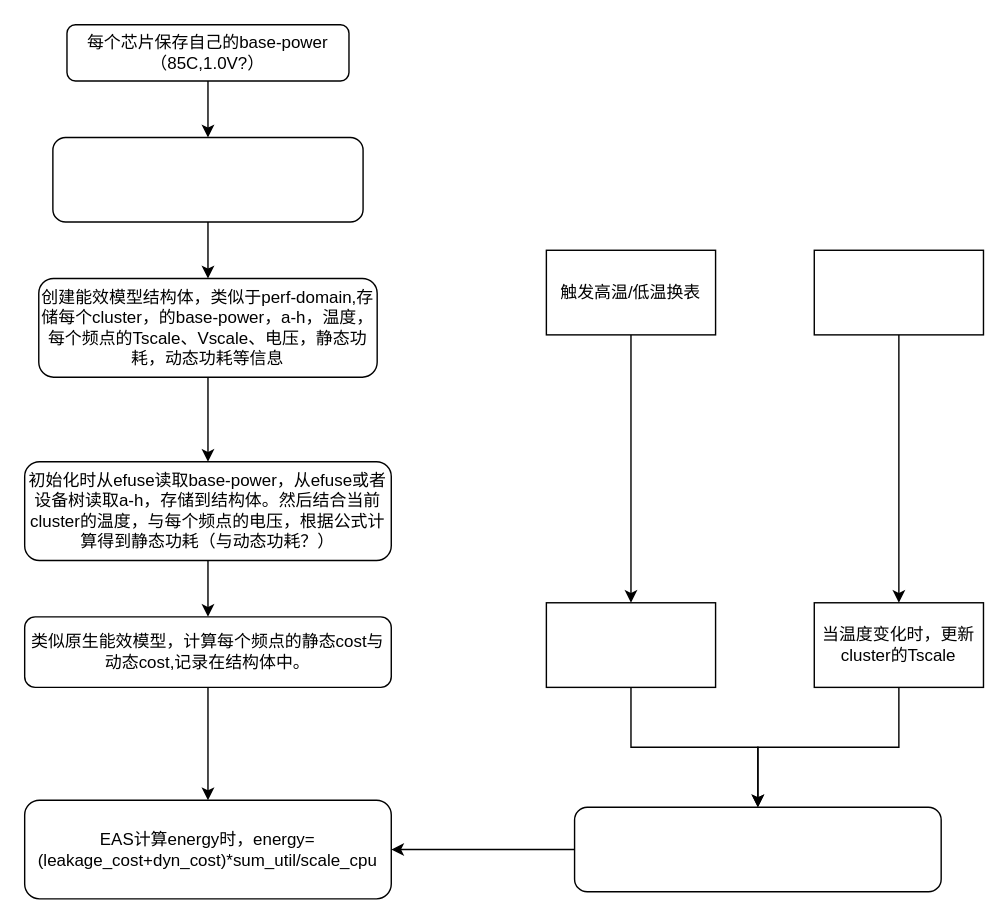
This 1008x924 diagram has some shape labels left out. The shapes that lost their labels are listed below. From the top down, each one's centre as x and y in pixels, then its label:
At [207,179]: "每个芯片保存自己的Tscale与Vscale公式参数（a-h）（或者在设备树中添加？）".
At [898,292]: "轮询检测各个cluster温度".
At [630,644]: "根据换表之后的电压，来更新能效模型结构体中的Vscale 和动态功耗".
At [757,849]: "更新每个频点 leakage=Base-power*Tscale*Vscale".
